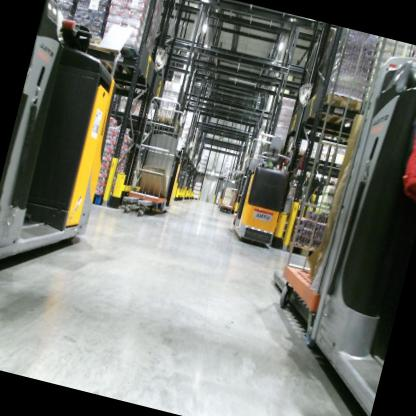pallet: (90, 34, 154, 98), (281, 235, 326, 264)
pallet_truck: (245, 34, 416, 416), (0, 12, 142, 302), (121, 97, 202, 232), (225, 139, 297, 248), (217, 165, 244, 214)
